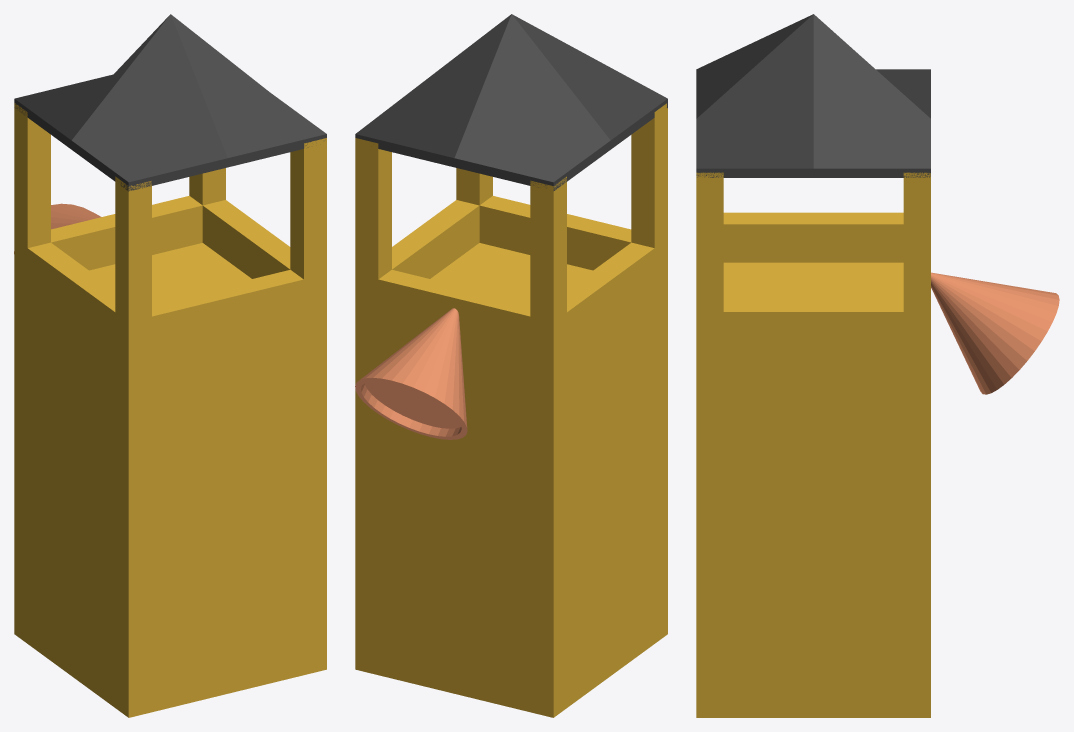
Rendered from Searchlight.fbx.
3 renders of one model, left to right at view 1: azimuth 30°, elevation 25°; view 2: azimuth 150°, elevation 25°; view 3: azimuth 270°, elevation 25°, orthographic. The views are drawn at different scales.
Visible parts, largest first — view 1: Cube.002; view 2: Cube.002; view 3: Cube.002.
Part boxes in pixels (x1=…): Cube.002: x1=14, y1=14, x2=326, y2=717; Cube.002: x1=355, y1=14, x2=667, y2=717; Cube.002: x1=696, y1=14, x2=1059, y2=717.
Size of the model in its own units: 200 by 615 by 309.
